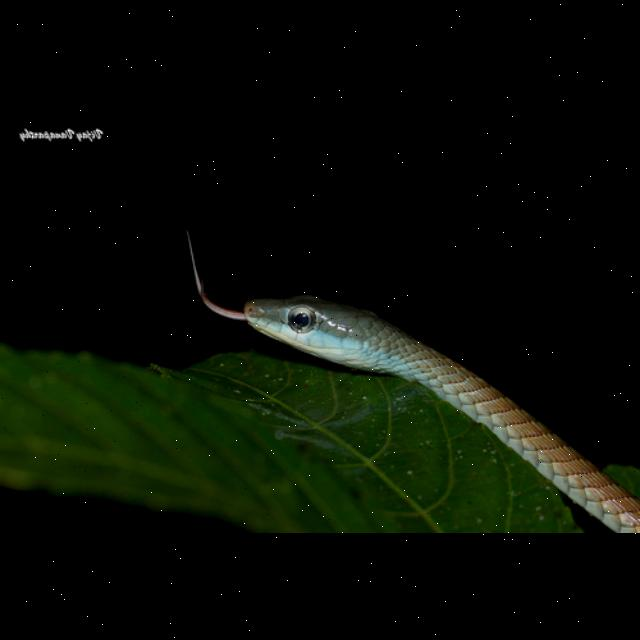snake: (190, 257, 638, 533)
